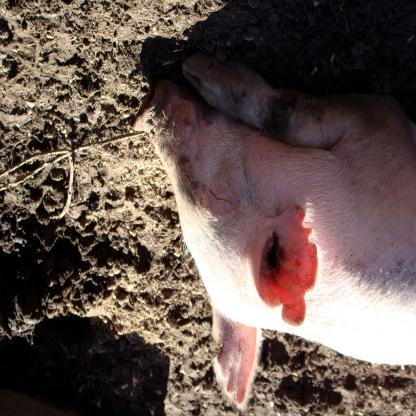boar: (131, 53, 416, 408)
